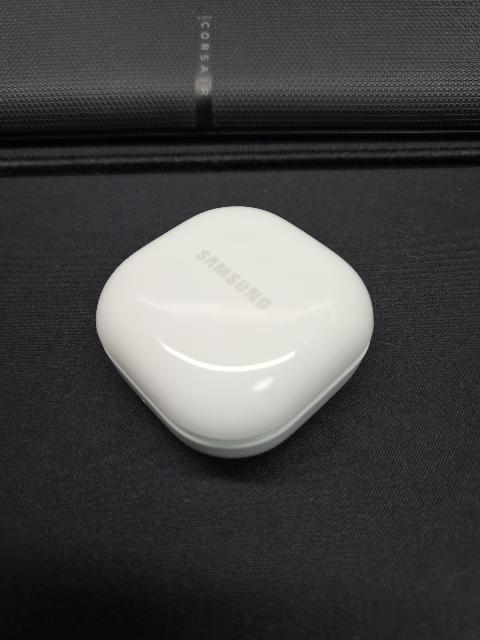earphone_case: (95, 206, 373, 459)
